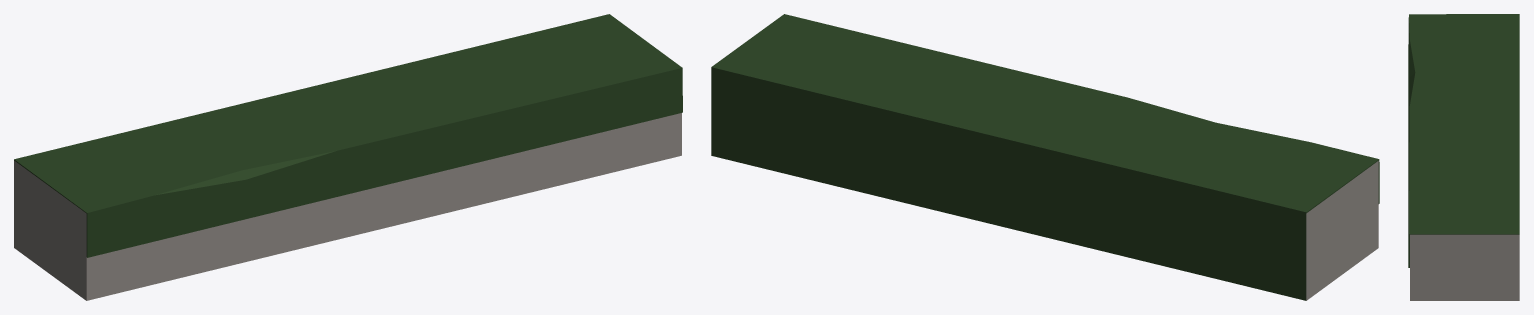
File: SM_Env_Stall_10.fbx
3 renders of one model, left to right at view 1: azimuth 30°, elevation 25°; view 2: azimuth 150°, elevation 25°; view 3: azimuth 270°, elevation 25°, orthographic. The views are drawn at different scales.
Parts seen in each view (by area): view 1: SM_Env_Stall_10; view 2: SM_Env_Stall_10; view 3: SM_Env_Stall_10.
Boxes of the visible parts, left/top/right/bottom form: SM_Env_Stall_10: left=14, top=14, right=682, bottom=300; SM_Env_Stall_10: left=711, top=14, right=1379, bottom=300; SM_Env_Stall_10: left=1408, top=14, right=1519, bottom=300.
Bounding box in the file's own units: 304 × 43.43 × 64.81.
Materials: 1 (1 with a texture image).
